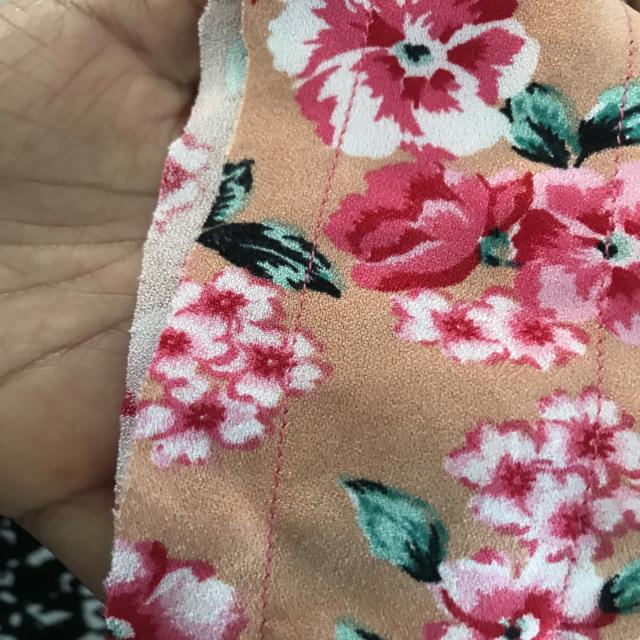good: (261, 452, 297, 518)
